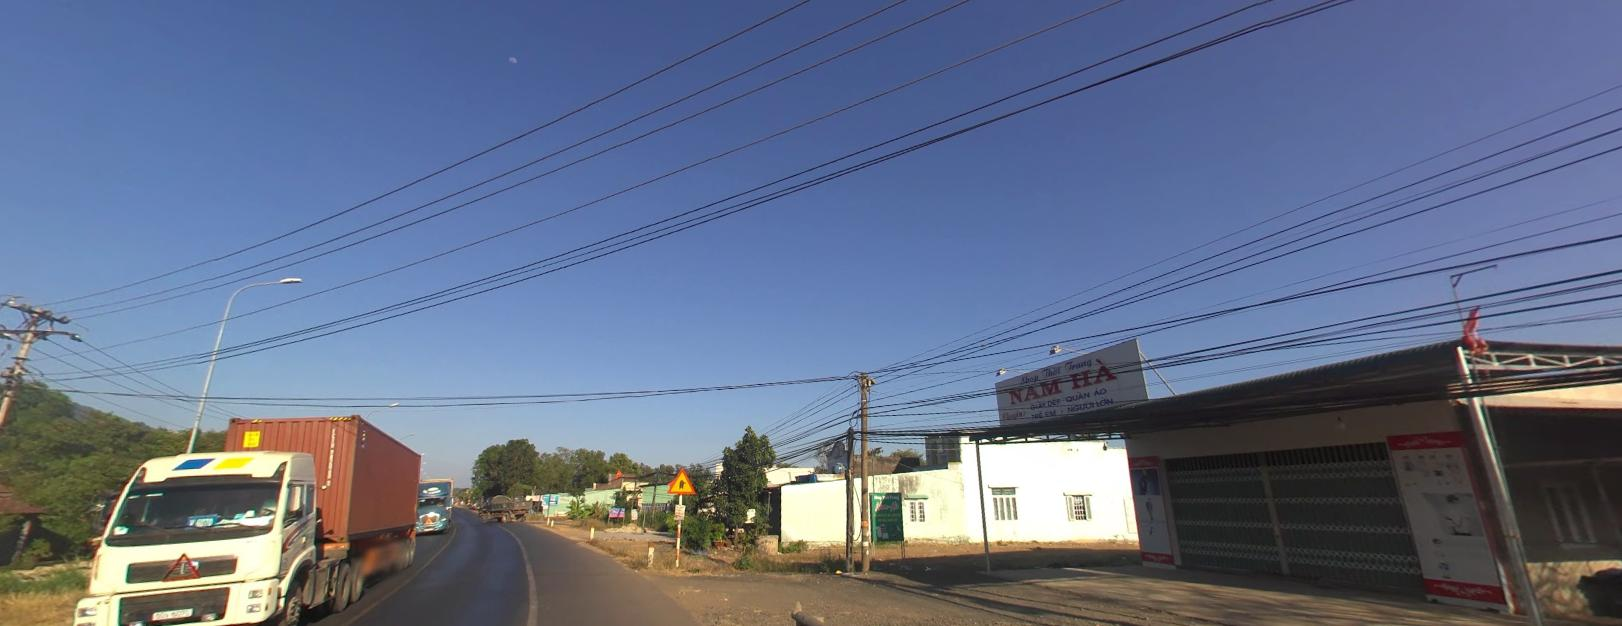Nguy hiem: (665, 464, 697, 495)
